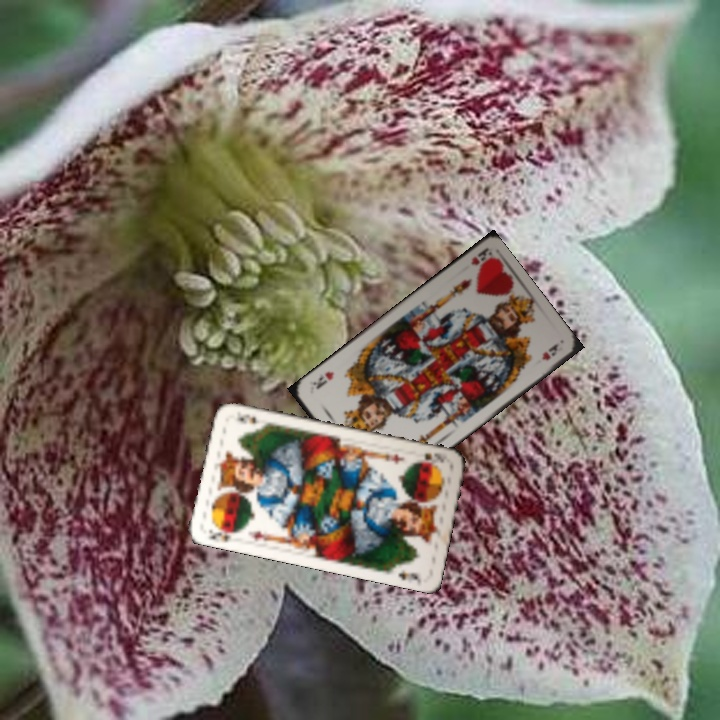HK: (467, 245, 494, 269)
SK: (204, 524, 242, 545), (420, 448, 447, 466)
